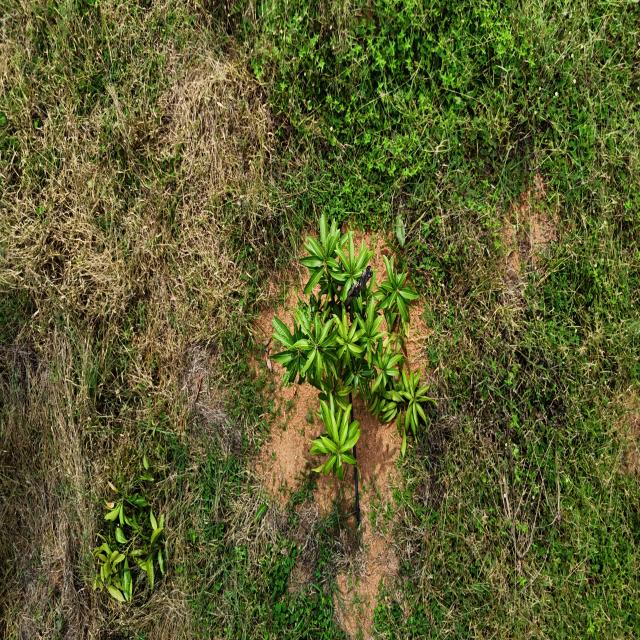mangoTree: (272, 206, 442, 480)
notMangoTree: (91, 457, 173, 611)
